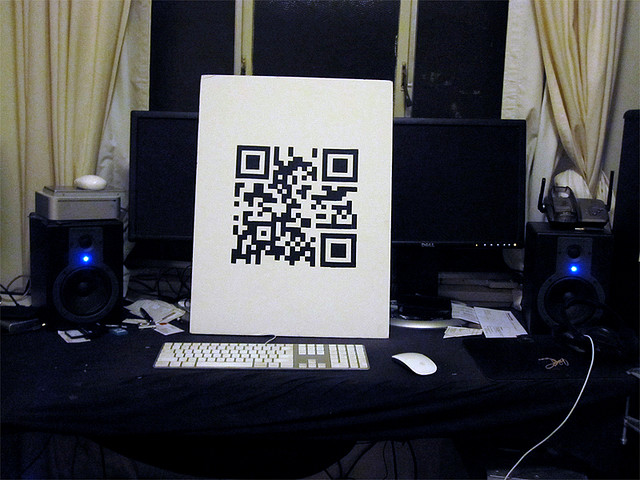QR-CODE: (231, 146, 357, 267)
